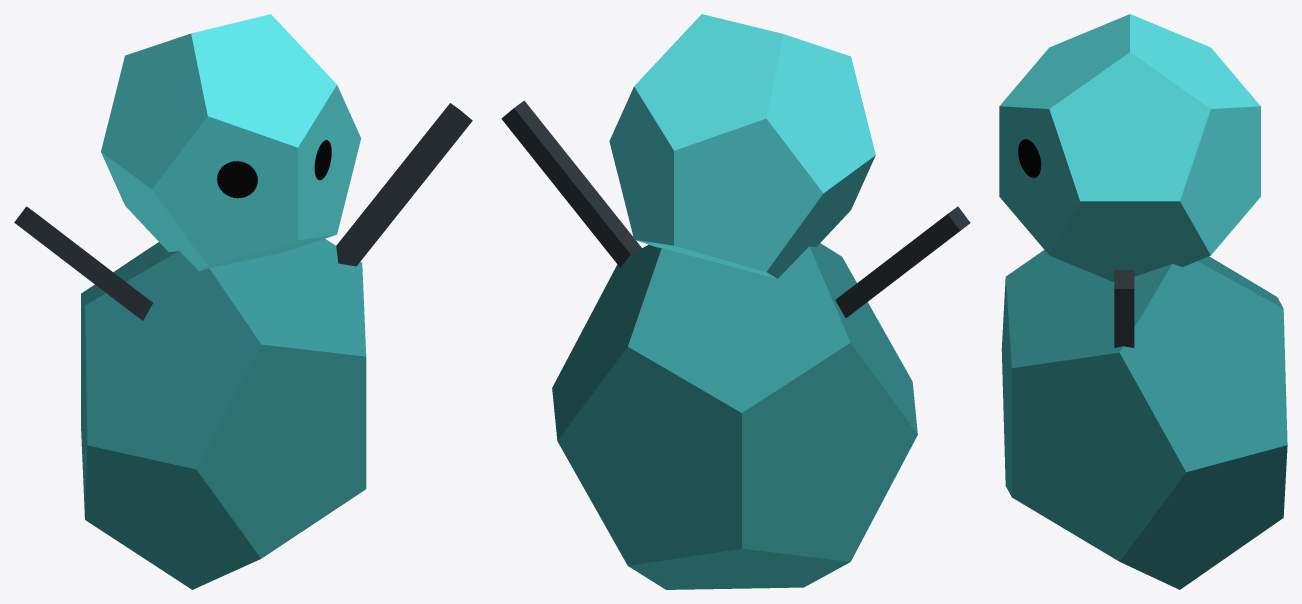
Rendered from blubble_blue.glb.
The picture shows the model from 3 angles, left to right: view 1: azimuth 30°, elevation 25°; view 2: azimuth 150°, elevation 25°; view 3: azimuth 270°, elevation 25°; orthographic projection. The views are drawn at different scales.
Parts seen in each view (by area): view 1: Dodecahedron (×2), Box (×2), Eye; view 2: Dodecahedron (×2), Box (×2); view 3: Dodecahedron (×2), Box, Eye.
Part boxes in pixels (<box>): Dodecahedron (×2): <box>81,14,366,589</box>; Box (×2): <box>14,103,472,320</box>; Eye: <box>217,161,257,198</box>; Dodecahedron (×2): <box>552,14,917,589</box>; Box (×2): <box>501,100,970,318</box>; Dodecahedron (×2): <box>999,14,1287,589</box>; Box: <box>1114,270,1134,347</box>; Eye: <box>1018,139,1041,177</box>.
Size of the model in its own units: 0.2529 by 0.2945 by 0.1441.
